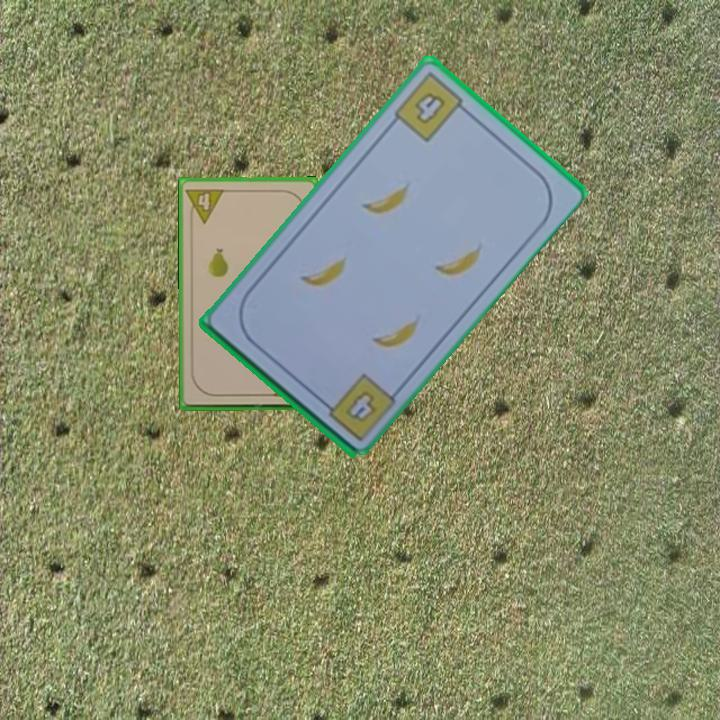4b: (390, 68, 472, 145), (341, 386, 379, 425)
4p: (183, 184, 227, 226)
